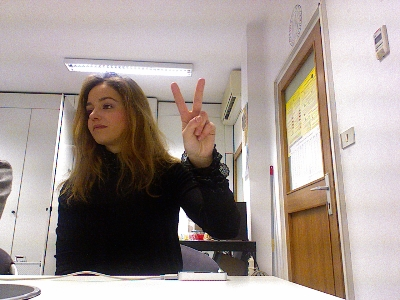剪刀: (169, 77, 216, 160)
